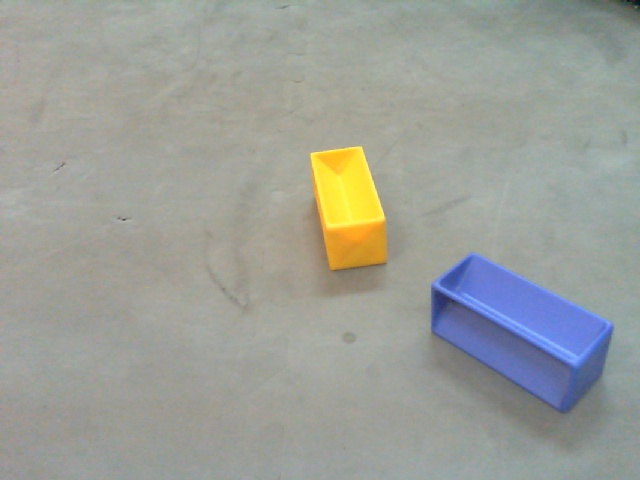BlueSample: (424, 250, 616, 420)
YellowSample: (308, 146, 388, 271)
